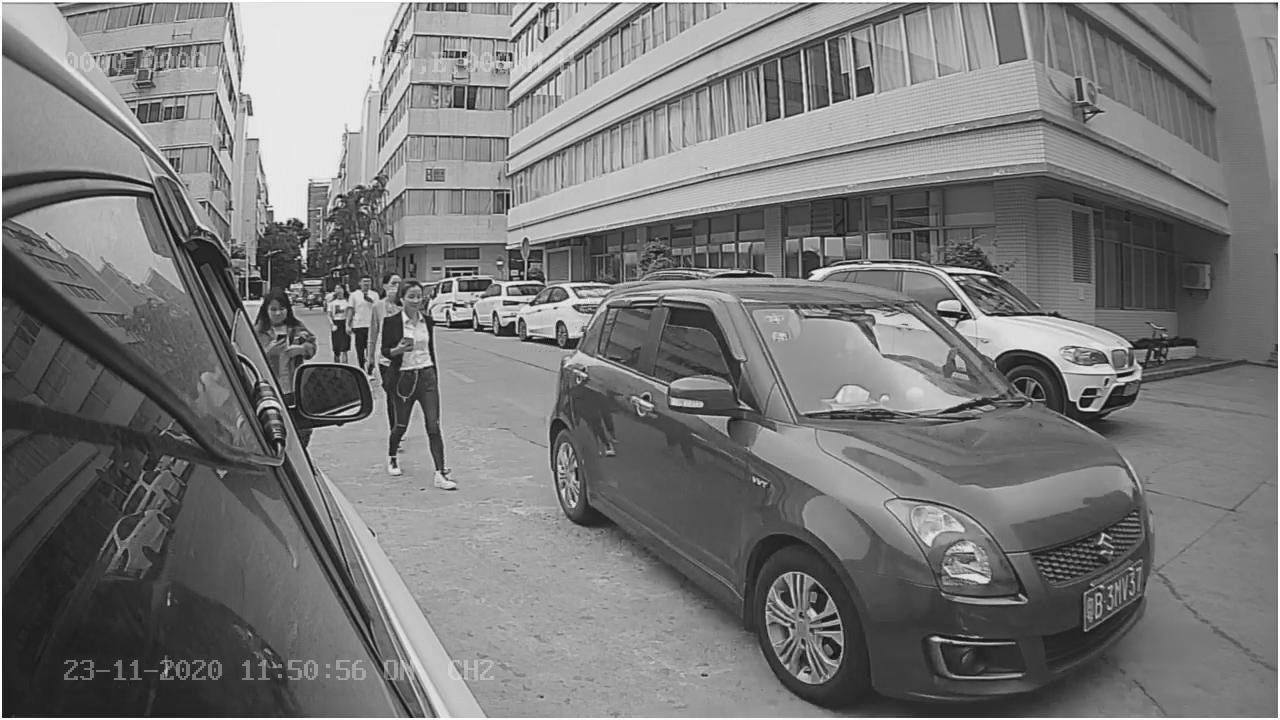person: (380, 276, 472, 490)
